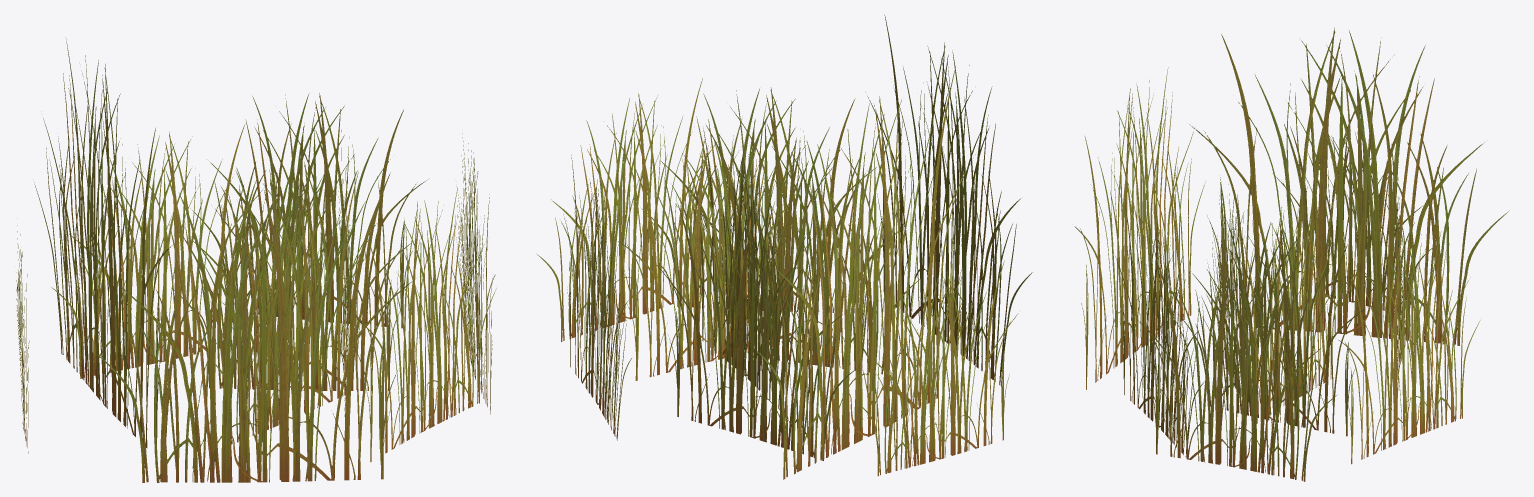
File: grass0.obj
3 renders of one model, left to right at view 1: azimuth 30°, elevation 25°; view 2: azimuth 150°, elevation 25°; view 3: azimuth 270°, elevation 25°, orthographic. The views are drawn at different scales.
Parts seen in each view (by area): view 1: SM_Grass_01_Plane.000, SM_Grass_01_Plane.001_SM_Grass_01_Plane.006, SM_Grass_01_Plane.004_SM_Grass_01_Plane.009, SM_Grass_01_Plane.003_SM_Grass_01_Plane.008, SM_Grass_01_Plane.004_SM_Grass_01_Plane.000, SM_Grass_01_Plane.002_SM_Grass_01_Plane.007, SM_Grass_01_Plane.002_SM_Grass_01_Plane.000, SM_Grass_01_Plane.003_SM_Grass_01_Plane.000, SM_Grass_01_Plane.001_SM_Grass_01_Plane.000, SM_Grass_01_Plane.004_SM_Grass_01_Plane.001; view 2: SM_Grass_01_Plane.001_SM_Grass_01_Plane.006, SM_Grass_01_Plane.000, SM_Grass_01_Plane.004_SM_Grass_01_Plane.009, SM_Grass_01_Plane.003_SM_Grass_01_Plane.000, SM_Grass_01_Plane.001_SM_Grass_01_Plane.000, SM_Grass_01_Plane.004_SM_Grass_01_Plane.001, SM_Grass_01_Plane.002_SM_Grass_01_Plane.000, SM_Grass_01_Plane.003_SM_Grass_01_Plane.008, SM_Grass_01_Plane.004_SM_Grass_01_Plane.000, SM_Grass_01_Plane.002_SM_Grass_01_Plane.007; view 3: SM_Grass_01_Plane.001_SM_Grass_01_Plane.006, SM_Grass_01_Plane.003_SM_Grass_01_Plane.000, SM_Grass_01_Plane.000, SM_Grass_01_Plane.004_SM_Grass_01_Plane.000, SM_Grass_01_Plane.004_SM_Grass_01_Plane.001, SM_Grass_01_Plane.003_SM_Grass_01_Plane.008, SM_Grass_01_Plane.002_SM_Grass_01_Plane.007, SM_Grass_01_Plane.001_SM_Grass_01_Plane.000, SM_Grass_01_Plane.002_SM_Grass_01_Plane.000, SM_Grass_01_Plane.004_SM_Grass_01_Plane.009.
Boxes of the visible parts, <box> form: SM_Grass_01_Plane.000: <box>93,179,415,482</box>; SM_Grass_01_Plane.001_SM_Grass_01_Plane.006: <box>34,37,172,448</box>; SM_Grass_01_Plane.004_SM_Grass_01_Plane.009: <box>51,125,264,378</box>; SM_Grass_01_Plane.003_SM_Grass_01_Plane.008: <box>358,187,496,462</box>; SM_Grass_01_Plane.004_SM_Grass_01_Plane.000: <box>190,93,426,328</box>; SM_Grass_01_Plane.002_SM_Grass_01_Plane.007: <box>171,162,412,391</box>; SM_Grass_01_Plane.002_SM_Grass_01_Plane.000: <box>215,172,368,444</box>; SM_Grass_01_Plane.003_SM_Grass_01_Plane.000: <box>454,133,495,414</box>; SM_Grass_01_Plane.001_SM_Grass_01_Plane.000: <box>16,225,29,453</box>; SM_Grass_01_Plane.004_SM_Grass_01_Plane.001: <box>338,129,350,416</box>; SM_Grass_01_Plane.001_SM_Grass_01_Plane.006: <box>757,66,975,479</box>; SM_Grass_01_Plane.000: <box>867,15,1032,386</box>; SM_Grass_01_Plane.004_SM_Grass_01_Plane.009: <box>658,203,855,460</box>; SM_Grass_01_Plane.003_SM_Grass_01_Plane.000: <box>537,78,717,341</box>; SM_Grass_01_Plane.001_SM_Grass_01_Plane.000: <box>856,260,1018,475</box>; SM_Grass_01_Plane.004_SM_Grass_01_Plane.001: <box>618,133,812,380</box>; SM_Grass_01_Plane.002_SM_Grass_01_Plane.000: <box>693,138,922,374</box>; SM_Grass_01_Plane.003_SM_Grass_01_Plane.008: <box>641,87,876,313</box>; SM_Grass_01_Plane.004_SM_Grass_01_Plane.000: <box>563,155,631,440</box>; SM_Grass_01_Plane.002_SM_Grass_01_Plane.007: <box>691,128,798,409</box>; SM_Grass_01_Plane.001_SM_Grass_01_Plane.006: <box>1189,27,1509,345</box>; SM_Grass_01_Plane.003_SM_Grass_01_Plane.000: <box>1137,259,1337,481</box>; SM_Grass_01_Plane.000: <box>1074,67,1205,389</box>; SM_Grass_01_Plane.004_SM_Grass_01_Plane.000: <box>1338,231,1480,464</box>; SM_Grass_01_Plane.004_SM_Grass_01_Plane.001: <box>1178,220,1365,436</box>; SM_Grass_01_Plane.003_SM_Grass_01_Plane.008: <box>1115,201,1204,457</box>; SM_Grass_01_Plane.002_SM_Grass_01_Plane.007: <box>1234,192,1345,423</box>; SM_Grass_01_Plane.001_SM_Grass_01_Plane.000: <box>1276,126,1432,314</box>; SM_Grass_01_Plane.002_SM_Grass_01_Plane.000: <box>1207,177,1267,421</box>; SM_Grass_01_Plane.004_SM_Grass_01_Plane.009: <box>1394,177,1406,379</box>.
Size of the model in its own units: 0.6397 by 0.4794 by 0.612.
Materials: 10 (10 with a texture image).
